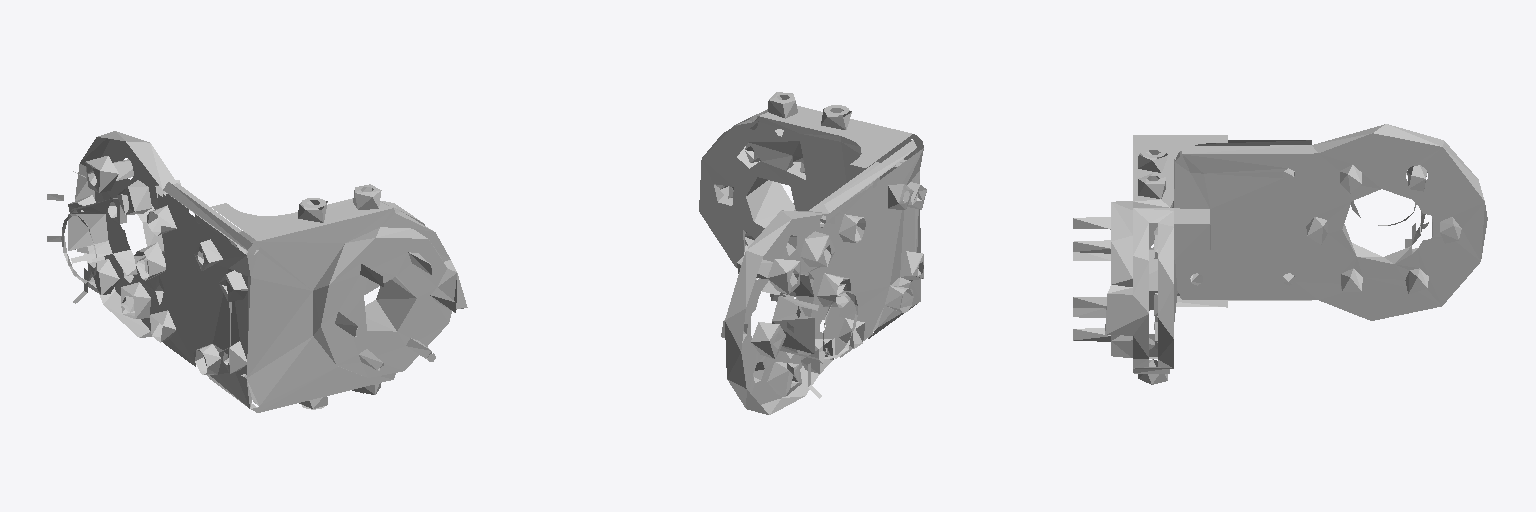
3 views of the same model, side by side, from view 1: azimuth 30°, elevation 25°; view 2: azimuth 150°, elevation 25°; view 3: azimuth 270°, elevation 25° (orthographic).
Visible parts, largest first — view 1: link2_1; view 2: link2_1; view 3: link2_1.
Part boxes in pixels (left/top/right/bottom): link2_1: left=47, top=131, right=467, bottom=412; link2_1: left=699, top=92, right=926, bottom=414; link2_1: left=1073, top=124, right=1487, bottom=384.
Size of the model in its own units: 70.59 by 54 by 101.